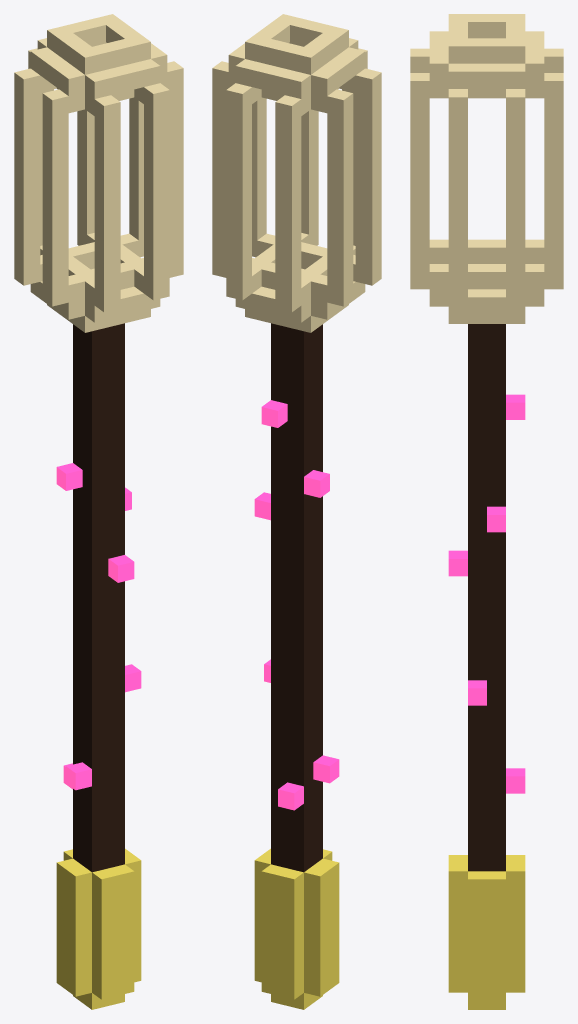
File: SM_TheBalance.fbx
3 views of the same model, side by side, from view 1: azimuth 30°, elevation 25°; view 2: azimuth 150°, elevation 25°; view 3: azimuth 270°, elevation 25° (orthographic).
Visible parts, largest first — view 1: SM_TheBalance; view 2: SM_TheBalance; view 3: SM_TheBalance.
Part boxes in pixels (x1,y1,x2,y2): SM_TheBalance: (14, 14, 183, 1009); SM_TheBalance: (212, 14, 381, 1009); SM_TheBalance: (410, 14, 563, 1009).
Bounding box in the file's own units: 80 × 560 × 80.
